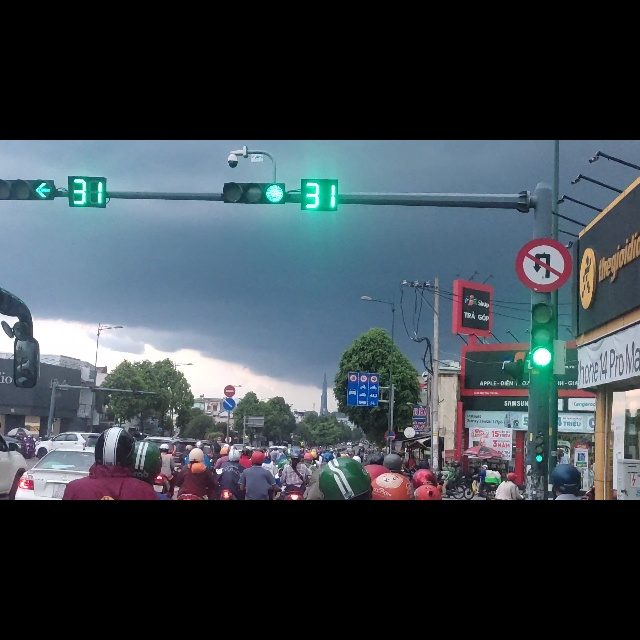bien_hieu_lenh: (515, 172, 572, 270), (347, 411, 379, 473), (223, 457, 235, 481), (224, 436, 236, 457)
